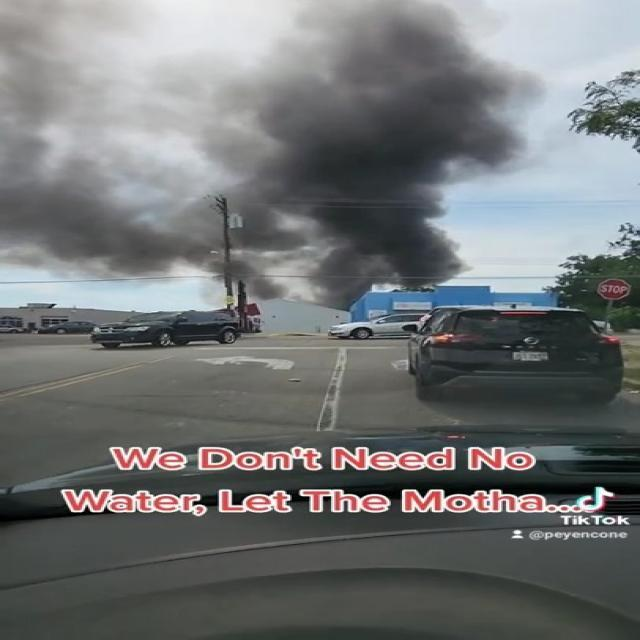Smoke: (206, 4, 529, 289)
